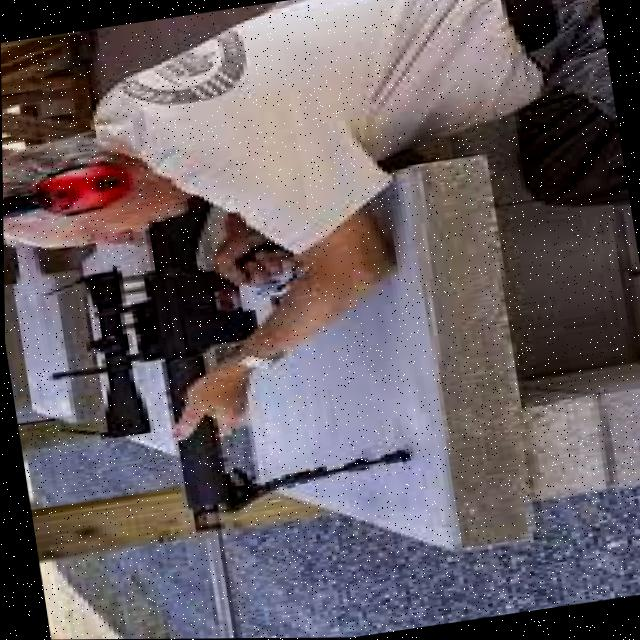firearm: (27, 197, 294, 640)
